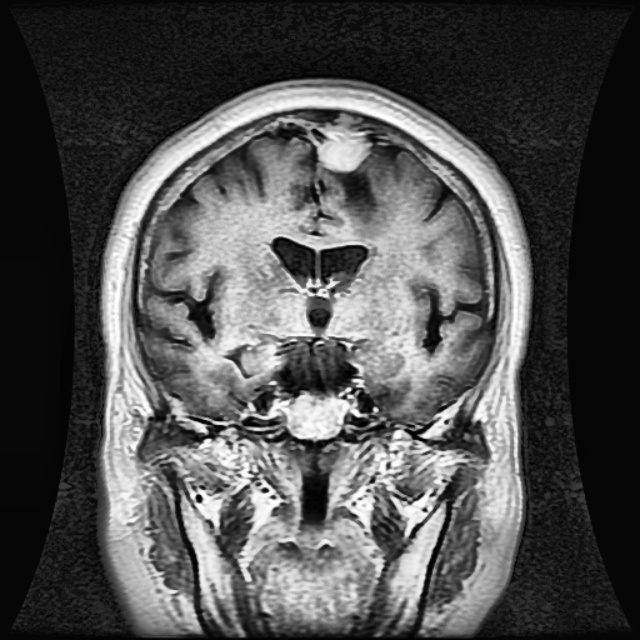Glioma: (317, 125, 369, 169)
